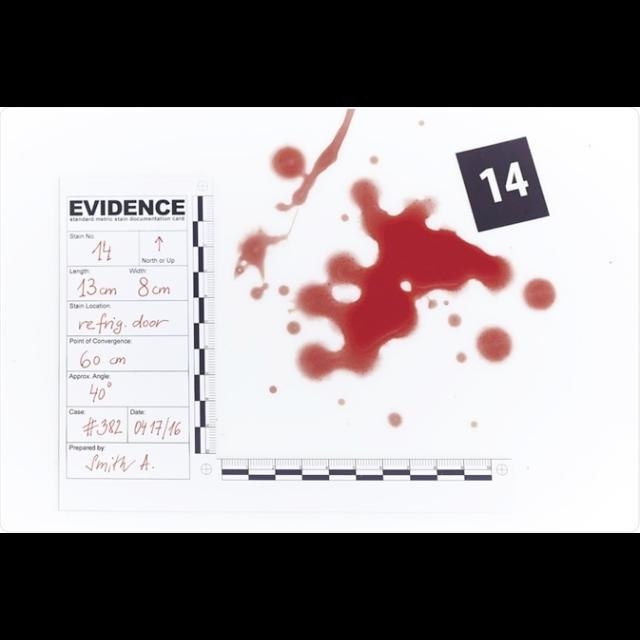blood: (288, 177, 514, 382), (268, 108, 355, 211), (234, 226, 289, 281), (475, 325, 514, 362), (522, 276, 556, 310), (249, 282, 268, 299), (387, 411, 403, 427), (286, 320, 301, 334), (447, 312, 461, 327), (278, 284, 289, 296)
